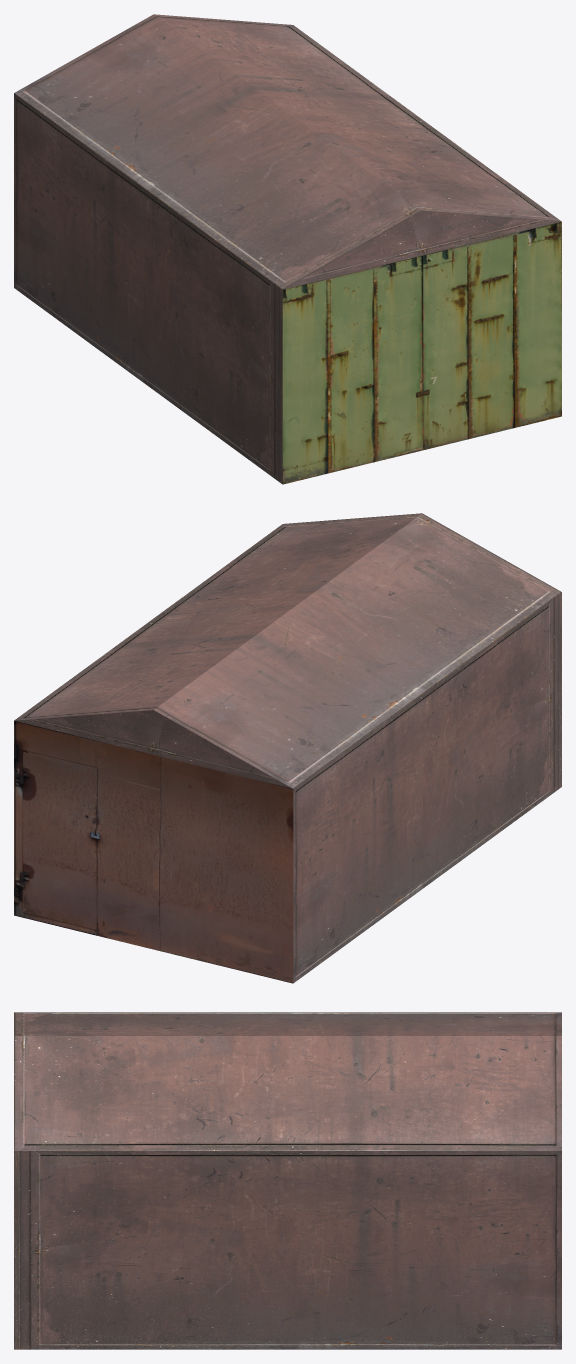
Rendered from garage02.fbx.
The picture shows the model from 3 angles, top to bottom: view 1: azimuth 30°, elevation 25°; view 2: azimuth 150°, elevation 25°; view 3: azimuth 270°, elevation 25°; orthographic projection.
Parts seen in each view (by area): view 1: Cube; view 2: Cube; view 3: Cube.
Part boxes in pixels (x1,y1,x2,y2): Cube: [14, 14, 561, 484]; Cube: [14, 513, 561, 983]; Cube: [14, 1012, 561, 1349].
Bounding box in the file's own units: 600 × 492 × 1000.
